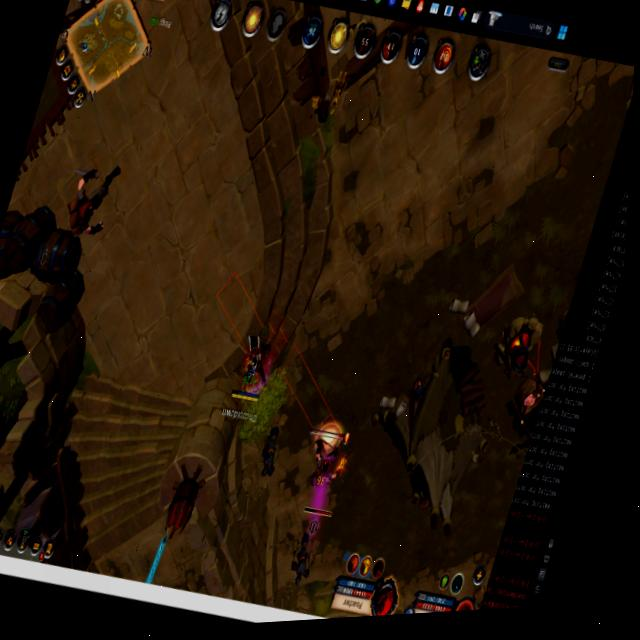ore: (28, 137, 131, 285), (292, 415, 362, 523)
red: (224, 324, 281, 410)
silver: (168, 248, 395, 478)
